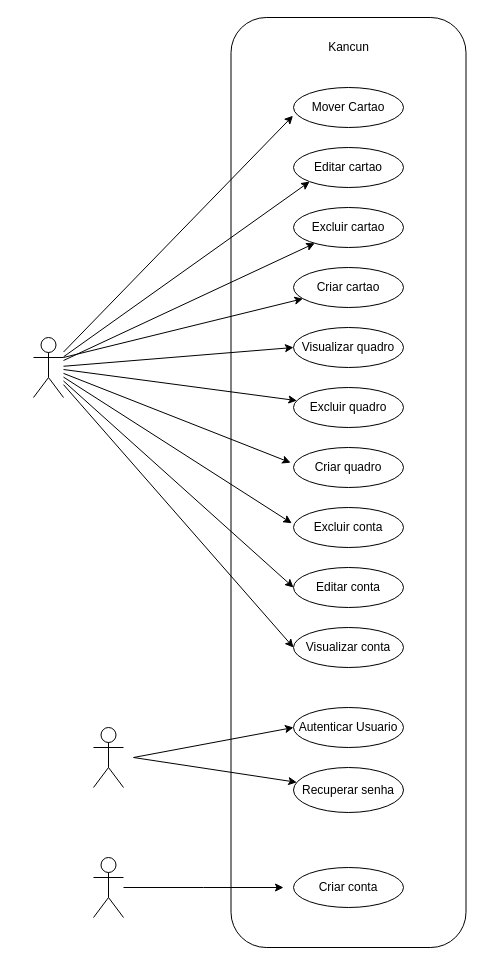
This 484x971 diagram has some shape labels left out. Each missing label, with the centre of its shape:
"Usuario" belongs at [108,757].
"Usuario autenticado" belongs at [48,367].
"Usuario Novo" belongs at [108,887].
